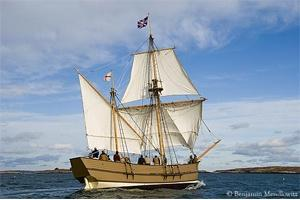fanchuan: (64, 5, 221, 186)
